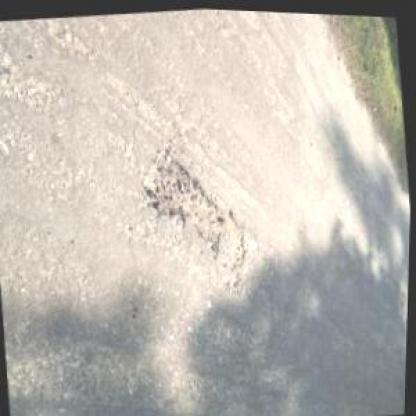pothole: (137, 134, 254, 278)
